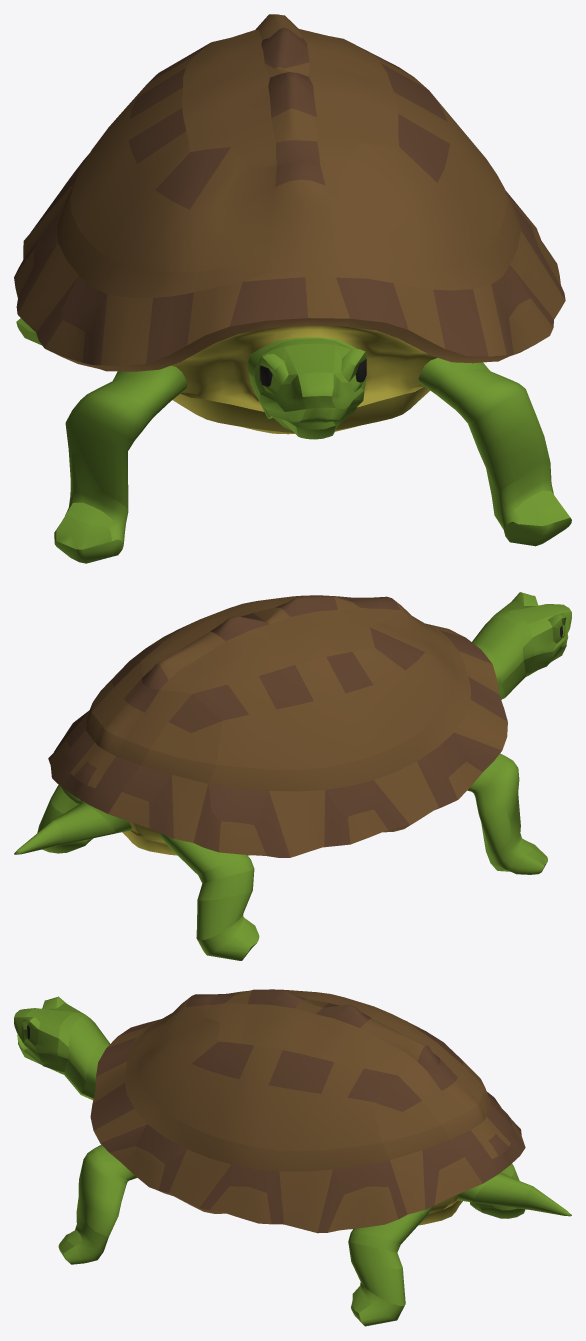
The model's file is Turtle.fbx.
3 views of the same model, one above another, from view 1: azimuth 30°, elevation 25°; view 2: azimuth 150°, elevation 25°; view 3: azimuth 270°, elevation 25° (orthographic). The views are drawn at different scales.
Parts seen in each view (by area): view 1: _pearlturtle; view 2: _pearlturtle; view 3: _pearlturtle.
Boxes of the visible parts, x1=… form: _pearlturtle: x1=14, y1=14, x2=571, y2=563; _pearlturtle: x1=14, y1=592, x2=571, y2=960; _pearlturtle: x1=14, y1=989, x2=571, y2=1326.
Size of the model in its own units: 12.4 by 7.36 by 15.32.
